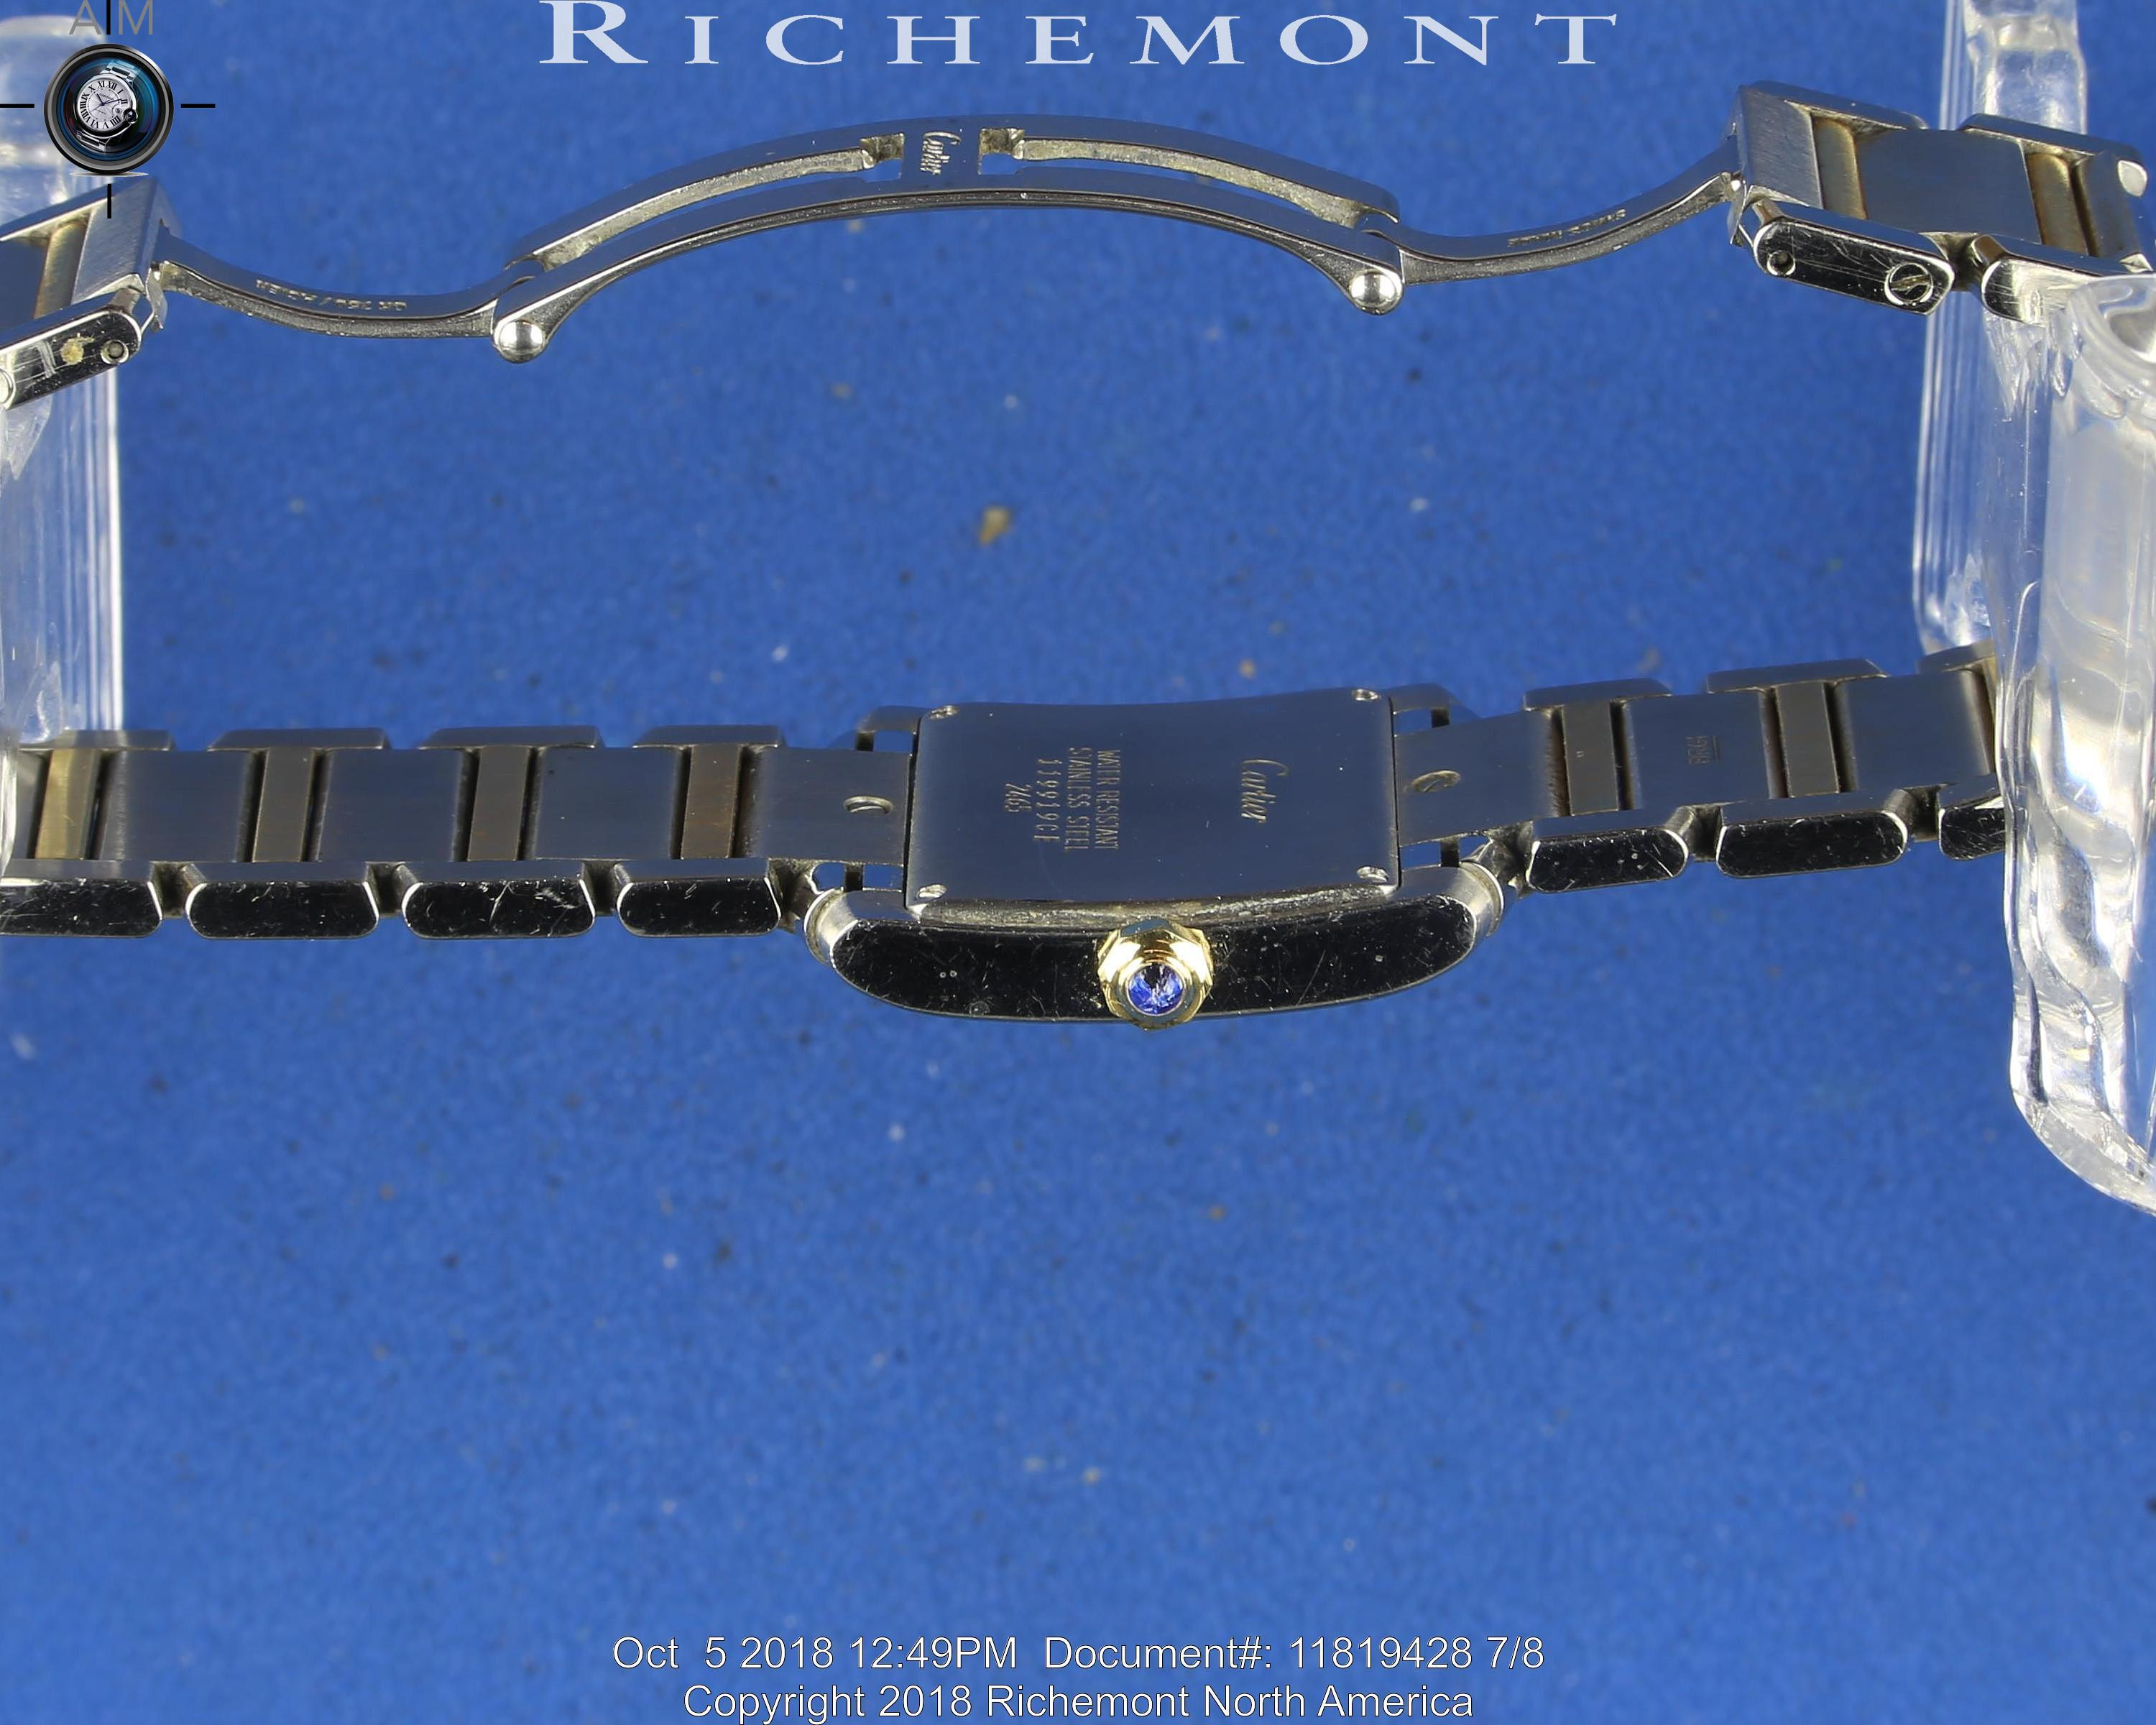watchback: (855, 678, 1485, 1030)
